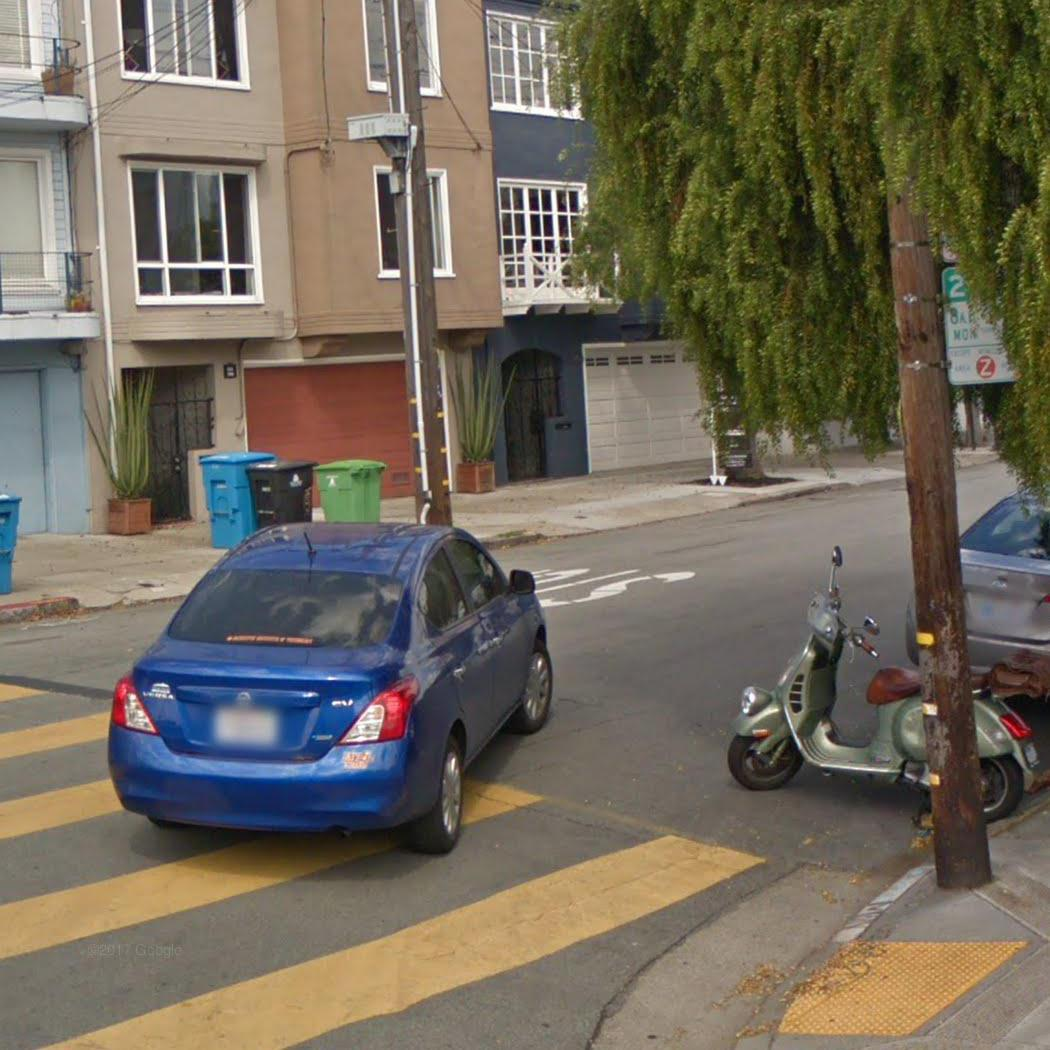2 Hour Parking: (938, 262, 1025, 387)
